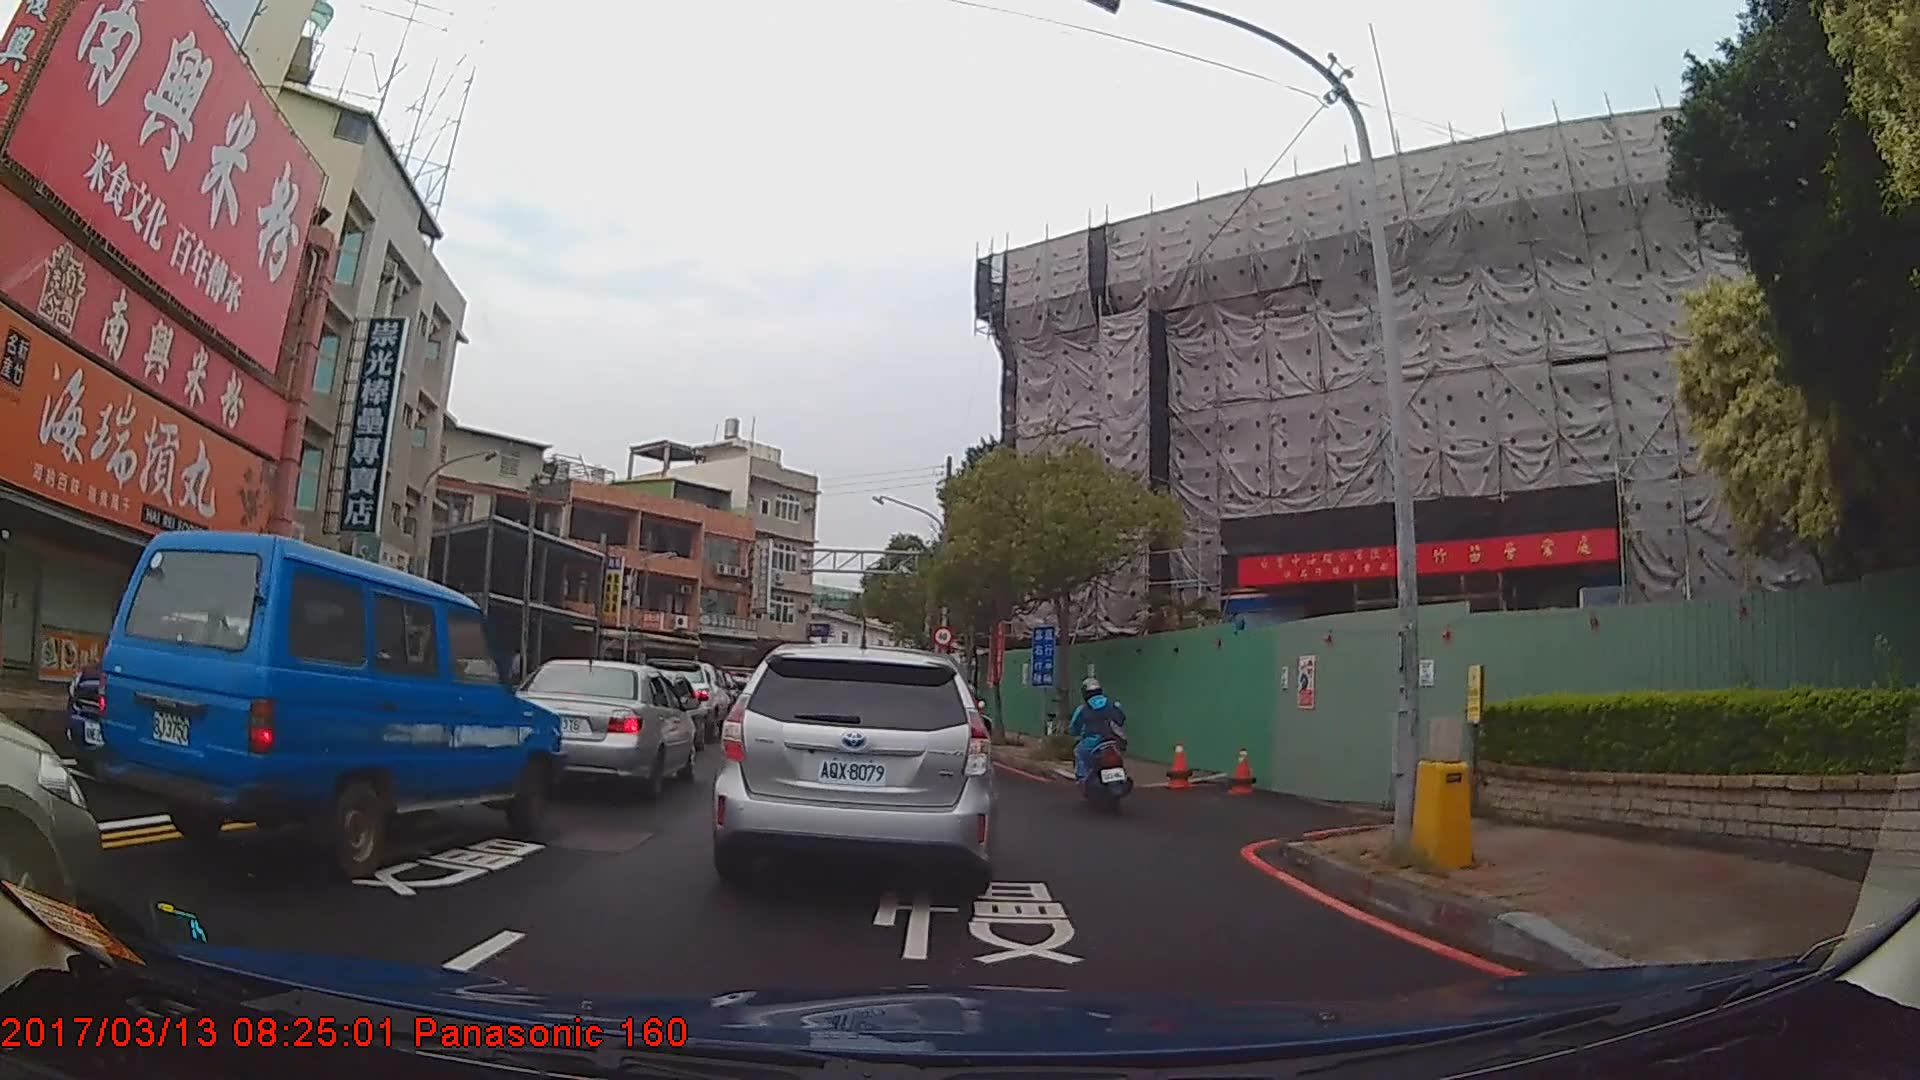rider: (1073, 683, 1130, 816)
vehicle: (93, 529, 565, 878), (706, 644, 1001, 889), (508, 659, 696, 798)
